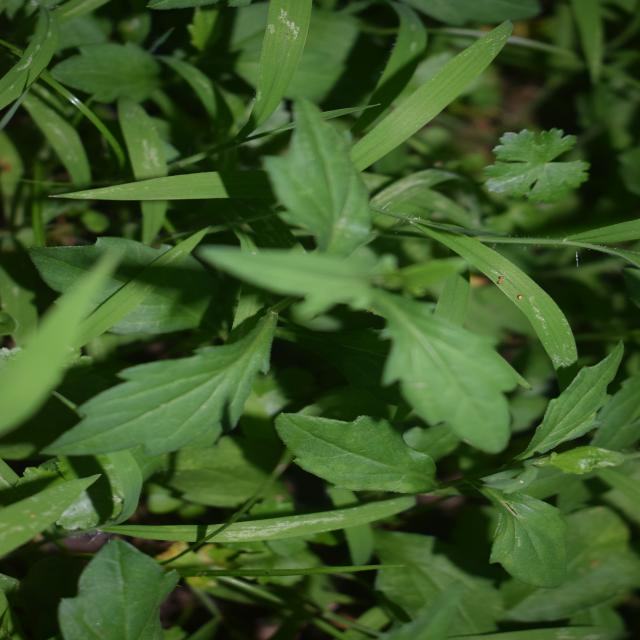Indian aster: (143, 103, 479, 573)
